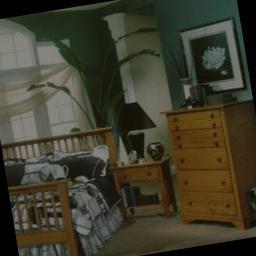Armario: (164, 100, 248, 238)
